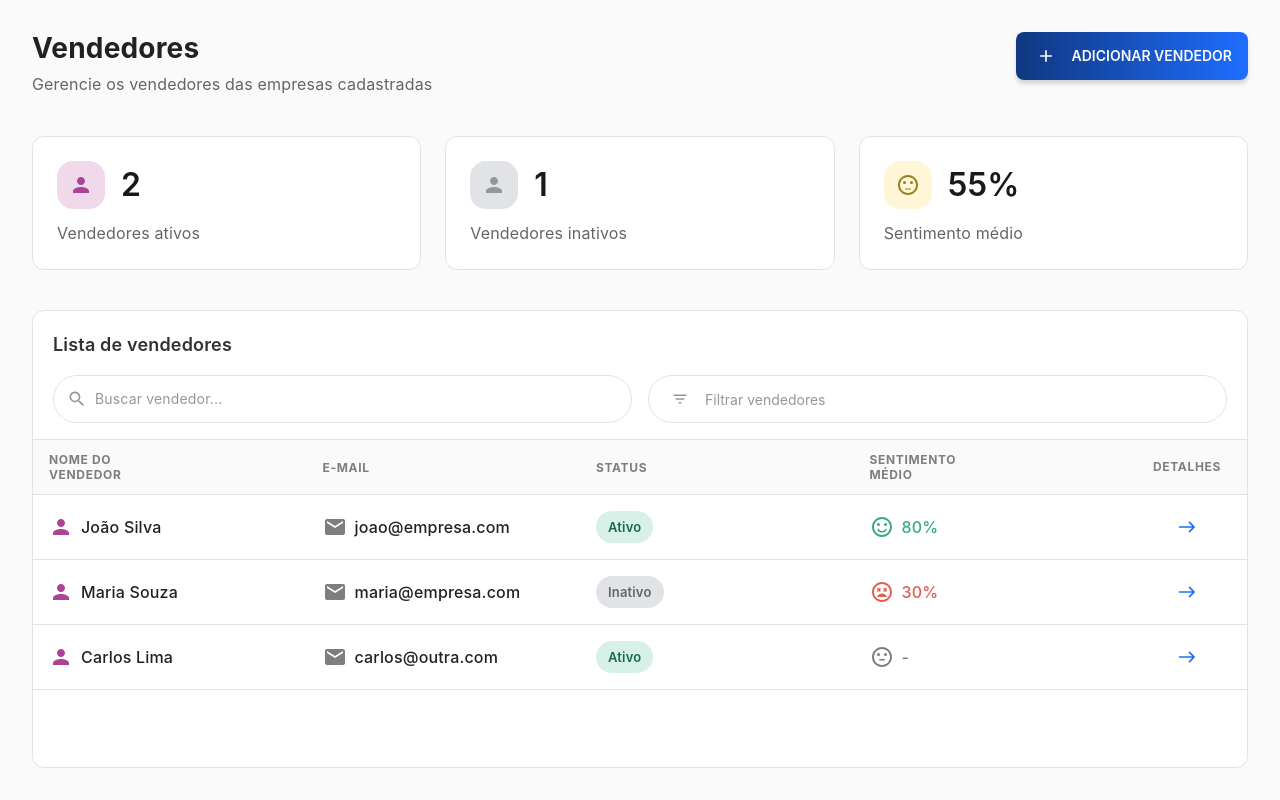
Test case: ManagerSalesmenPage › filters salesmen by search on name
The image size is (1280, 800).
Type "João" into the field with placeholder "Buscar vendedor..." at (364, 399), box [95, 379, 632, 419]
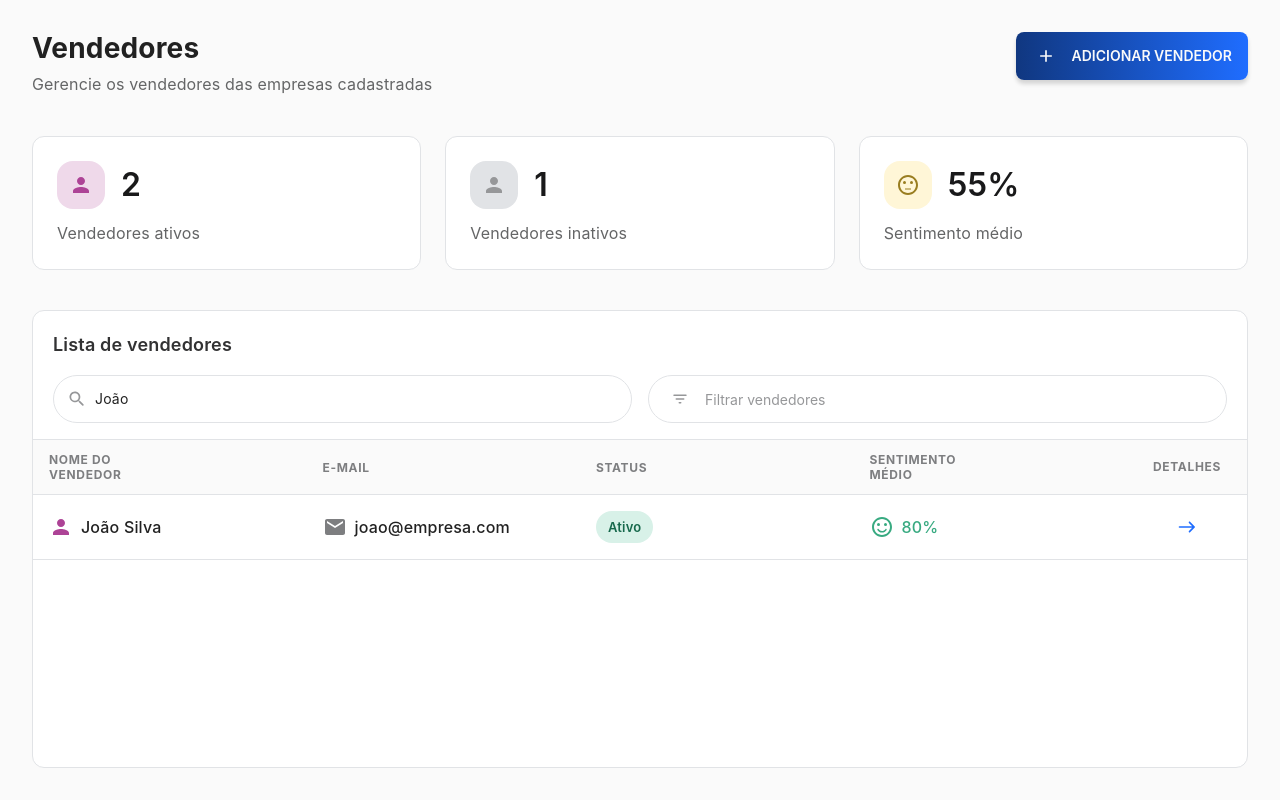
Check: the text "João Silva" is shown, box [81, 516, 161, 538]
Check: the text "Maria Souza" is gone
Check: the text "Carlos Lima" is gone
